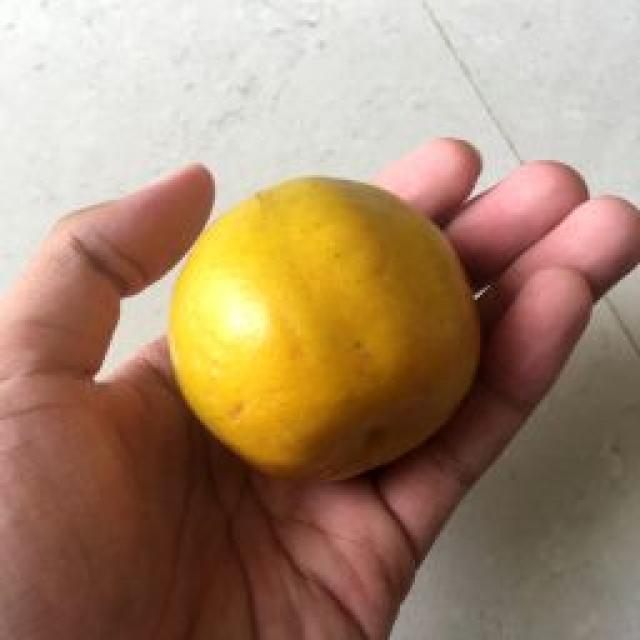Good_Orange: (165, 175, 485, 488)
